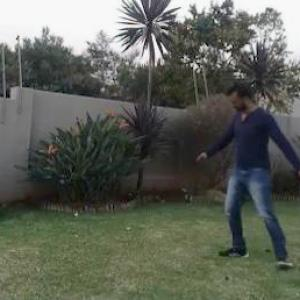land: (188, 71, 299, 286)
